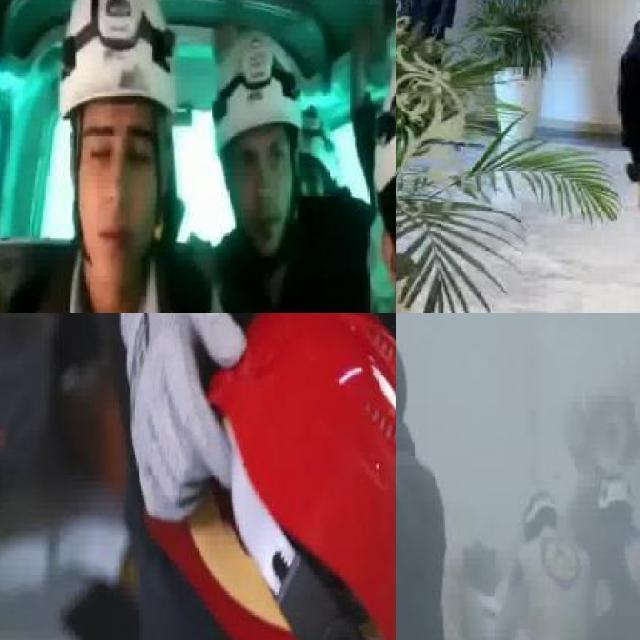apron: (119, 313, 248, 532)
